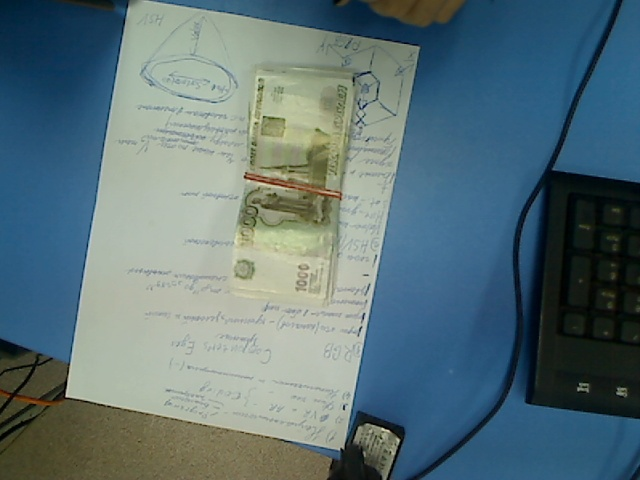banknotes: (227, 66, 354, 301)
